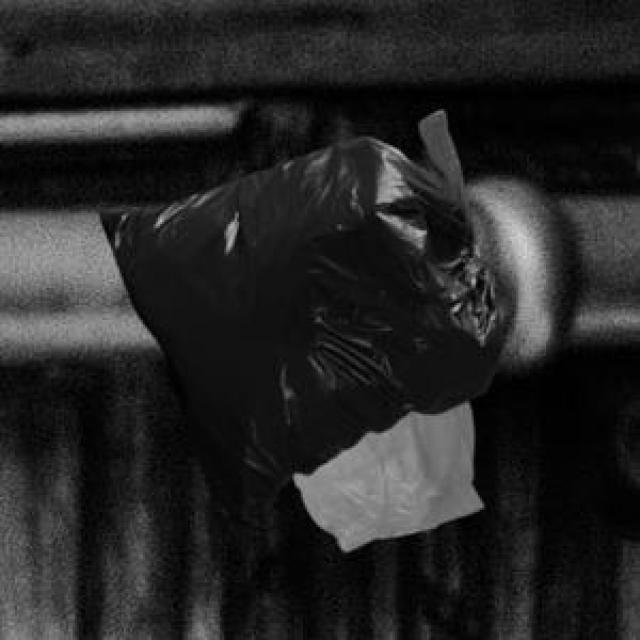miscellaneous trash: (94, 107, 497, 548)
